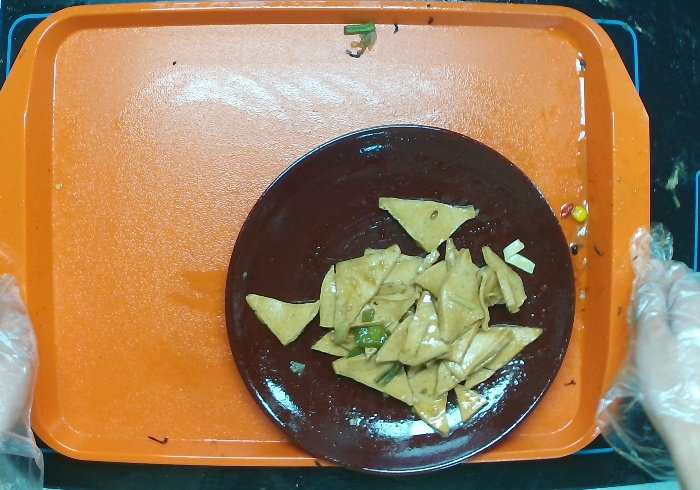HZYJPL-Ka_Fei_Yuan_Pan: (210, 98, 594, 490)
